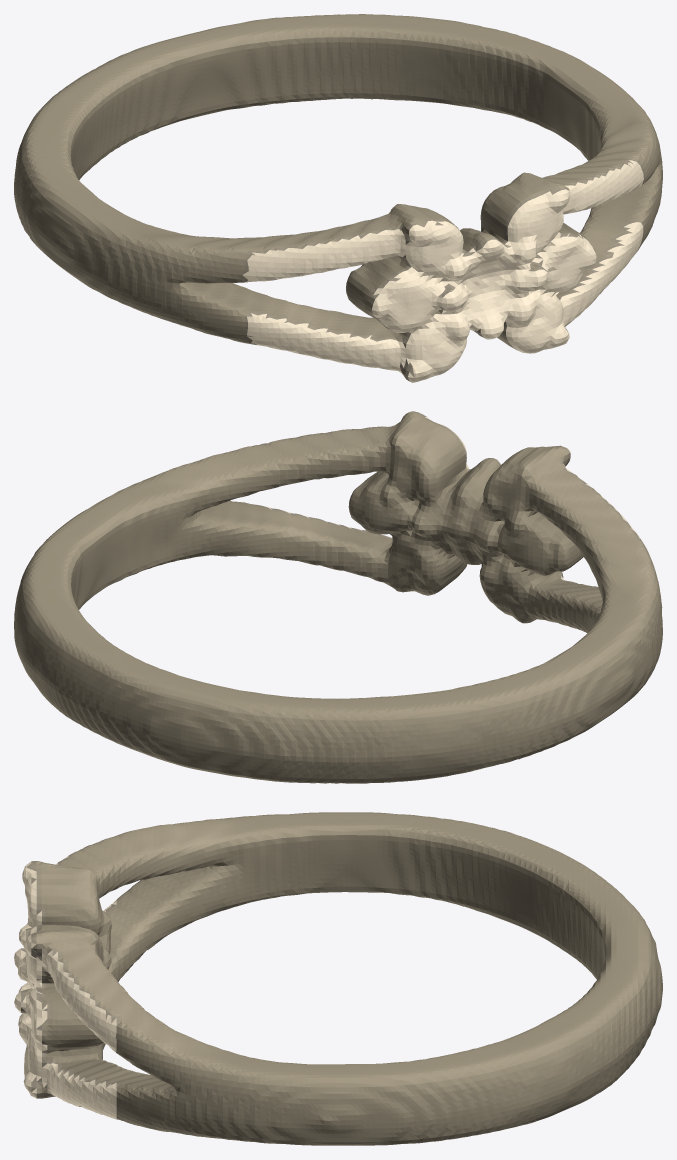
3 views of the same model, one above another, from view 1: azimuth 30°, elevation 25°; view 2: azimuth 150°, elevation 25°; view 3: azimuth 270°, elevation 25° (orthographic). The views are drawn at different scales.
Visible parts, largest first — view 1: metal, stone; view 2: metal; view 3: metal, stone.
Part boxes in pixels (bbox=[...]): metal: bbox=[14, 14, 662, 381]; stone: bbox=[242, 160, 643, 382]; metal: bbox=[14, 411, 662, 783]; metal: bbox=[21, 812, 662, 1145]; stone: bbox=[14, 841, 120, 1119].
Size of the model in its own units: 1.96 by 0.538 by 1.91.
